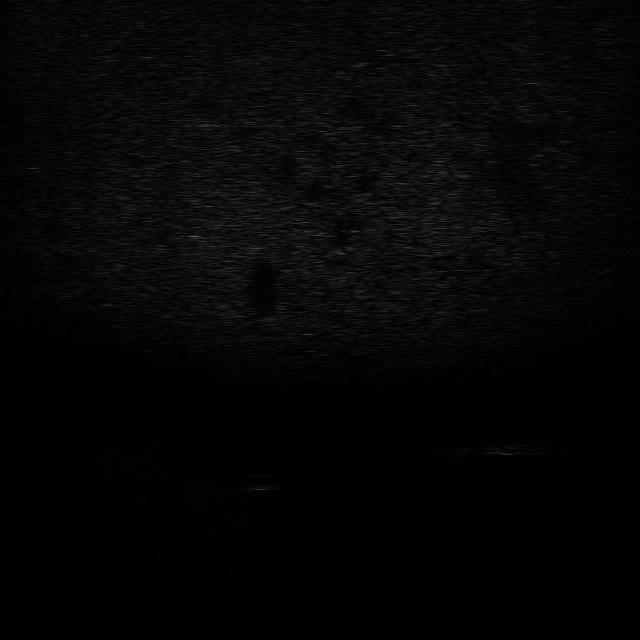ball: (239, 469, 285, 493)
human body: (438, 438, 574, 460)
